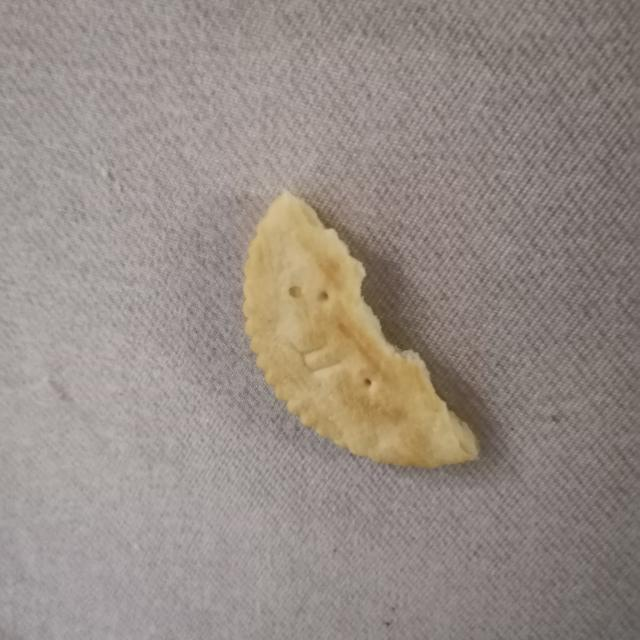Broken: (240, 189, 480, 469)
